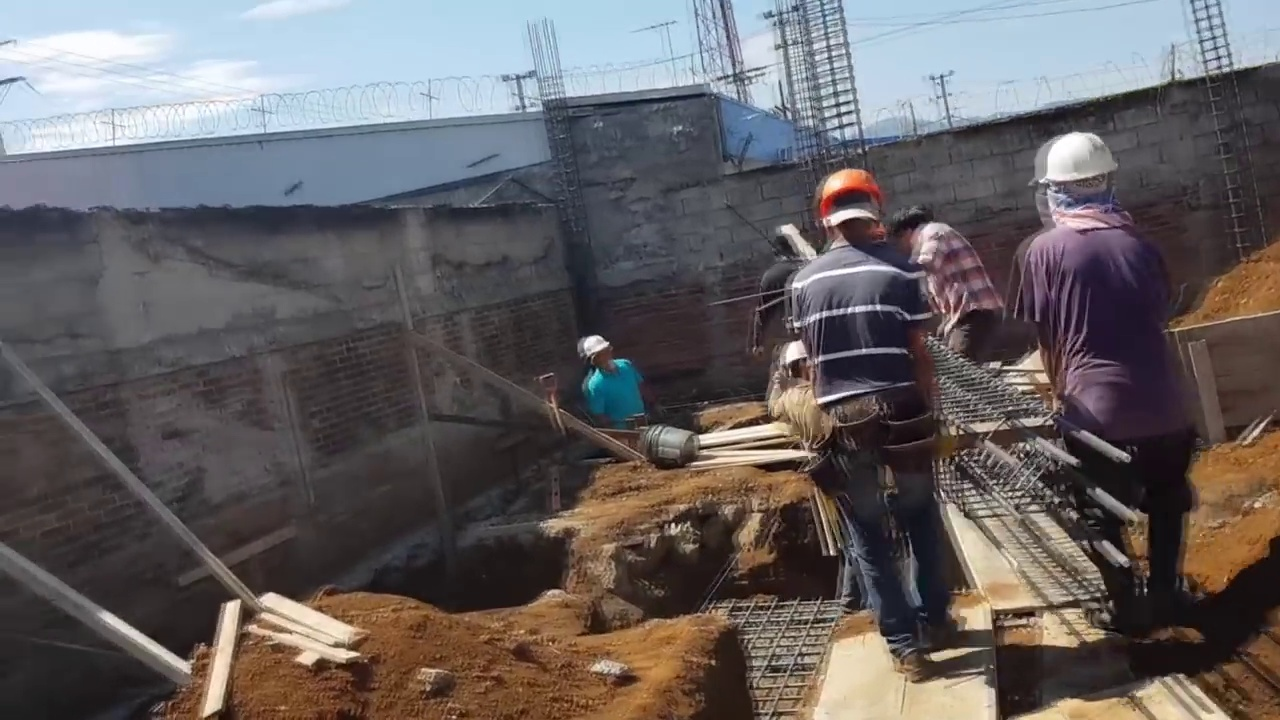helmet: (1033, 129, 1122, 194), (816, 169, 882, 227), (778, 341, 809, 370), (580, 338, 609, 361)
helmet-off: (884, 206, 945, 262), (771, 237, 793, 263)
helmet-on: (1040, 131, 1132, 227), (822, 169, 886, 257), (775, 341, 815, 388), (579, 336, 617, 373)
person: (1004, 138, 1204, 648), (788, 174, 971, 688), (892, 211, 1017, 392), (767, 340, 850, 507), (748, 237, 814, 361), (571, 333, 651, 431)
